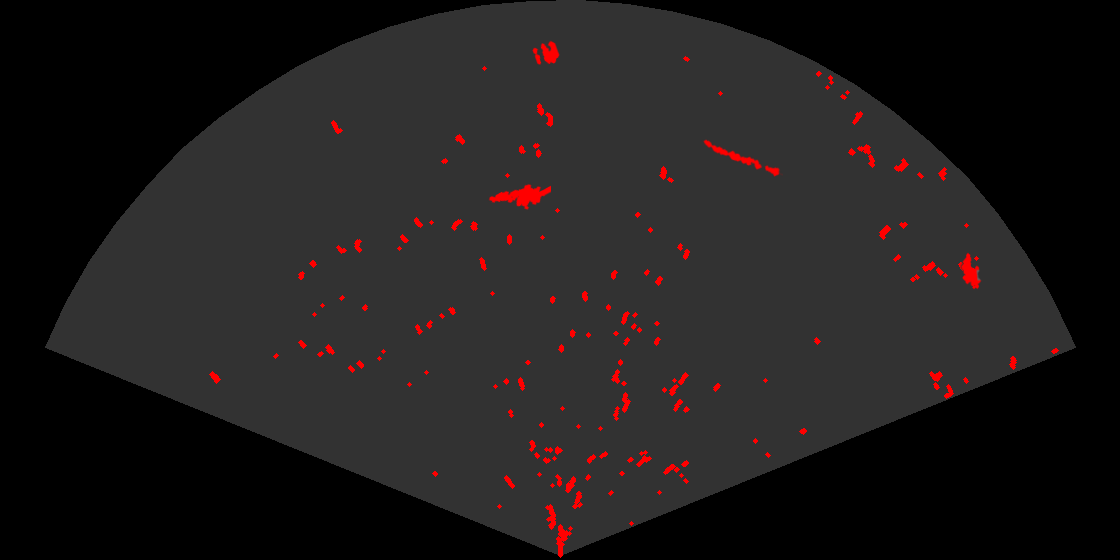AUV: (960, 251, 983, 291)
ball: (531, 39, 561, 66)
chain: (701, 138, 783, 178)
frogman: (487, 183, 551, 211)
